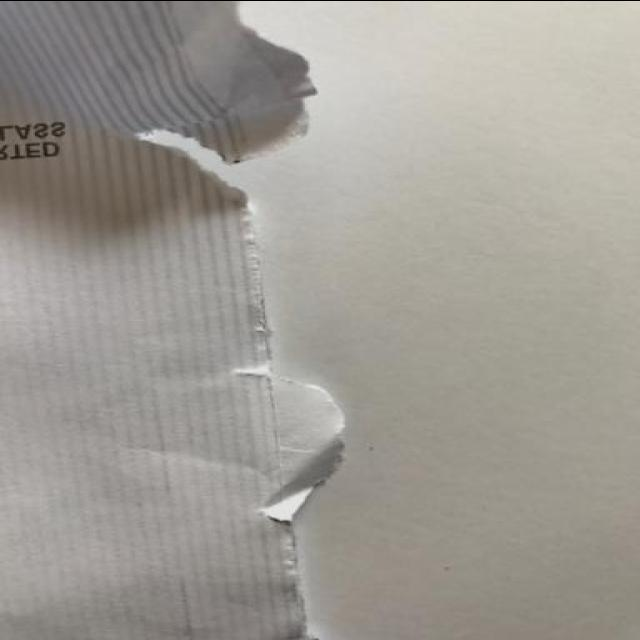paper: (0, 1, 336, 639)
